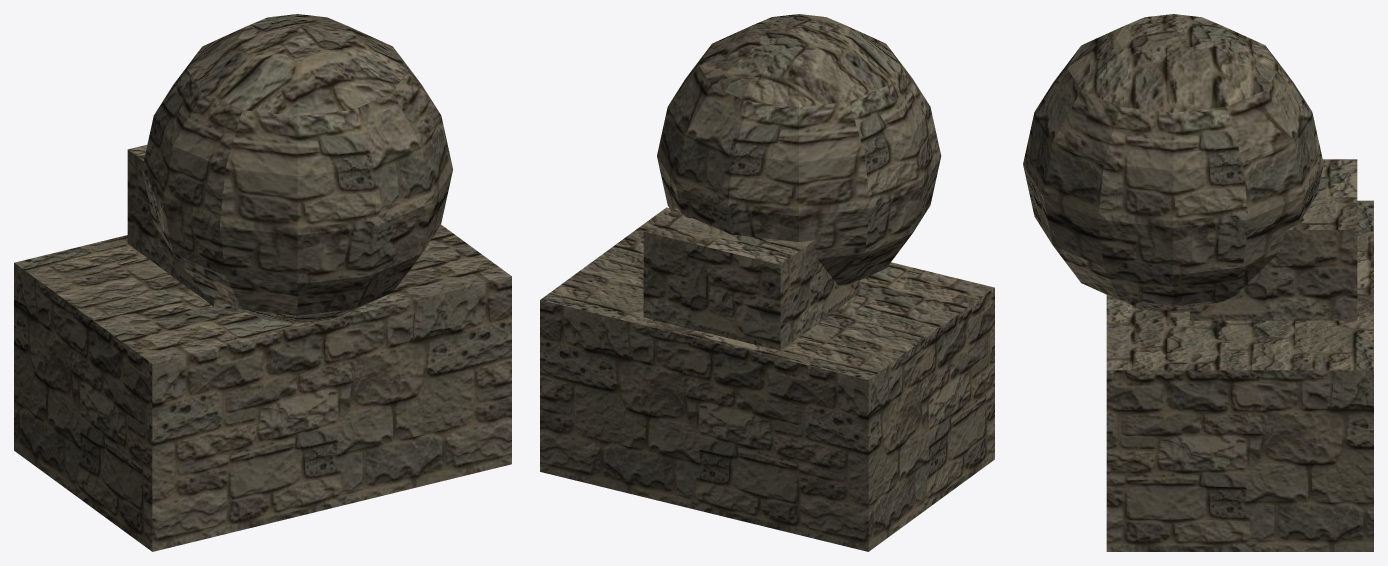
File: haetae_01.glb
The picture shows the model from 3 angles, left to right: view 1: azimuth 30°, elevation 25°; view 2: azimuth 150°, elevation 25°; view 3: azimuth 270°, elevation 25°; orthographic projection. The views are drawn at different scales.
Parts seen in each view (by area): view 1: haetae_01; view 2: haetae_01; view 3: haetae_01.
Boxes of the visible parts, x1,y1,x2,y2 form: haetae_01: [14, 14, 511, 551]; haetae_01: [540, 14, 994, 551]; haetae_01: [1023, 14, 1373, 551].
Size of the model in its own units: 1.2 by 1.45 by 1.05.
1 material, 1 textured.
